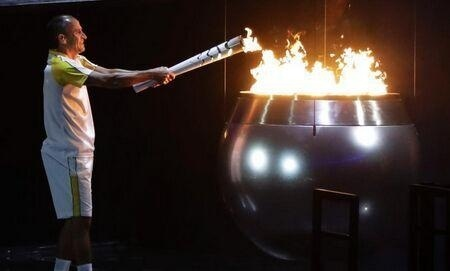fire: (246, 27, 391, 95)
